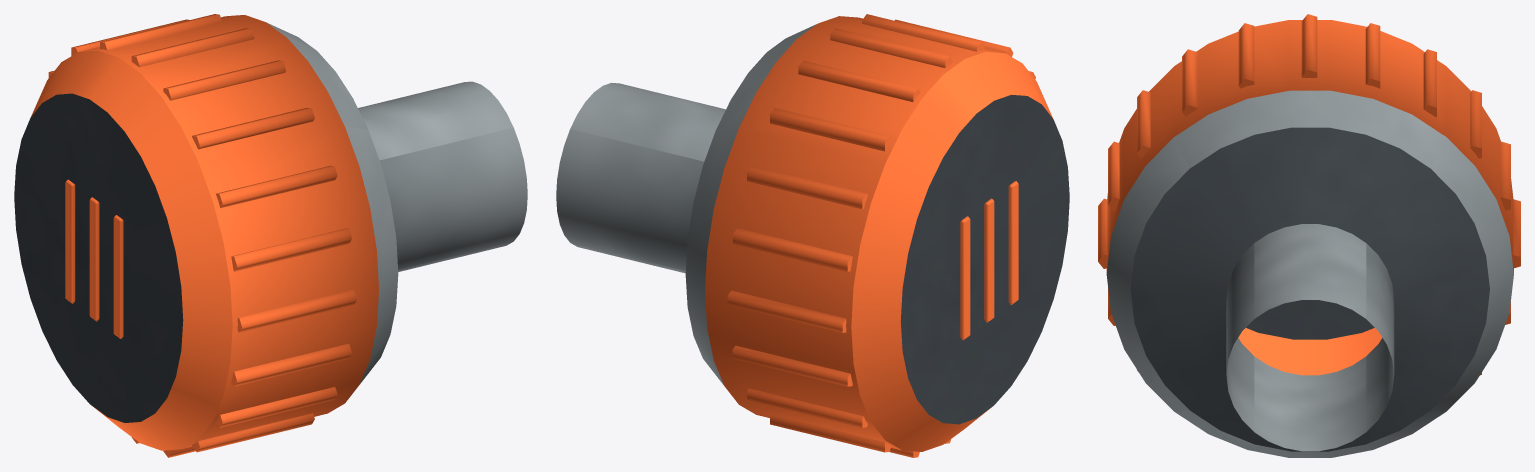
The model's file is prop_capillary_primer.fbx.
3 views of the same model, side by side, from view 1: azimuth 30°, elevation 25°; view 2: azimuth 150°, elevation 25°; view 3: azimuth 270°, elevation 25° (orthographic).
Visible parts, largest first — view 1: SM_prop_capillary_primer; view 2: SM_prop_capillary_primer; view 3: SM_prop_capillary_primer.
Boxes of the visible parts, x1,y1,x2,y2 form: SM_prop_capillary_primer: (14, 14, 527, 457); SM_prop_capillary_primer: (556, 14, 1069, 457); SM_prop_capillary_primer: (1098, 14, 1520, 457).
Bounding box in the file's own units: 0.0377 × 0.0354 × 0.0353.
4 materials, 3 textured.
